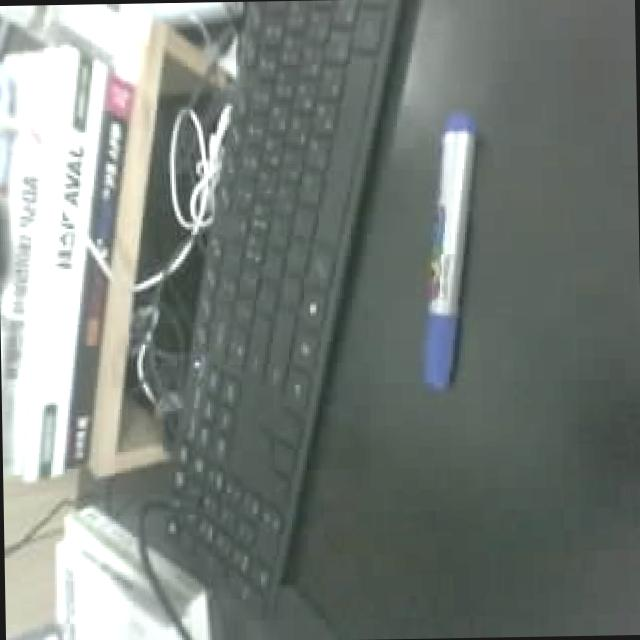board-marker: (415, 107, 492, 403)
